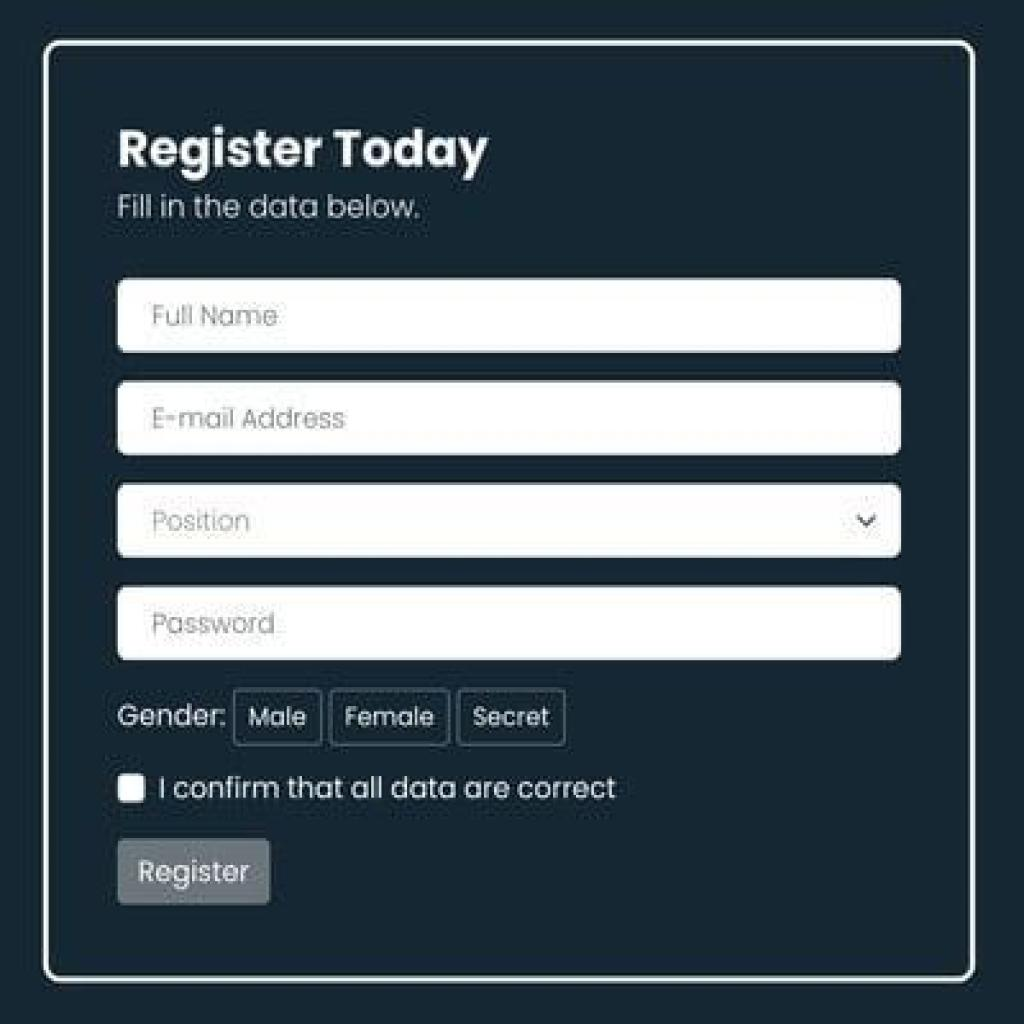button: (118, 841, 271, 911), (332, 684, 450, 746), (456, 690, 563, 749), (233, 687, 323, 749)
checkbox: (118, 771, 146, 808)
dropdown: (118, 482, 898, 560)
input: (118, 272, 901, 356), (118, 380, 904, 458), (118, 588, 898, 660)
label: (154, 768, 624, 817), (116, 701, 230, 733)
